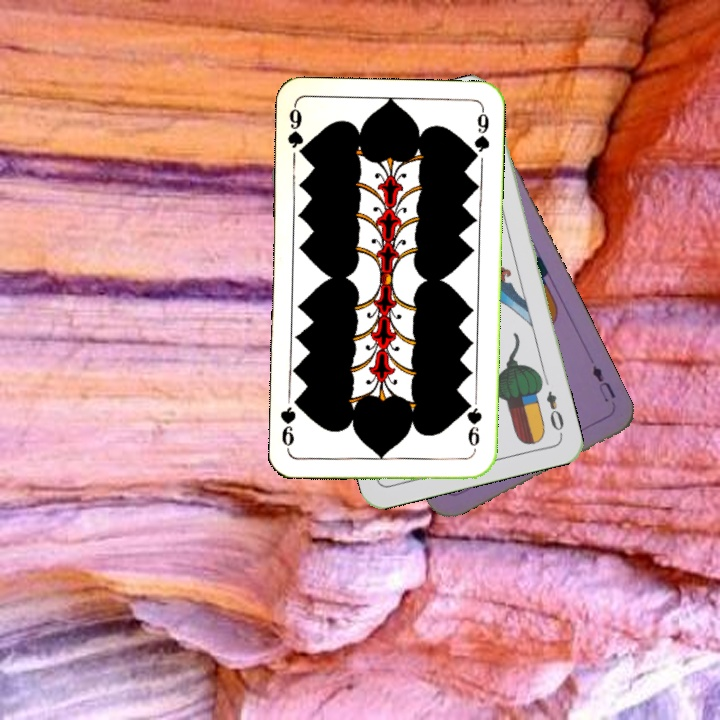EO: (542, 387, 567, 438)
EU: (588, 361, 619, 405)
G9: (283, 102, 309, 161), (463, 397, 485, 455)
